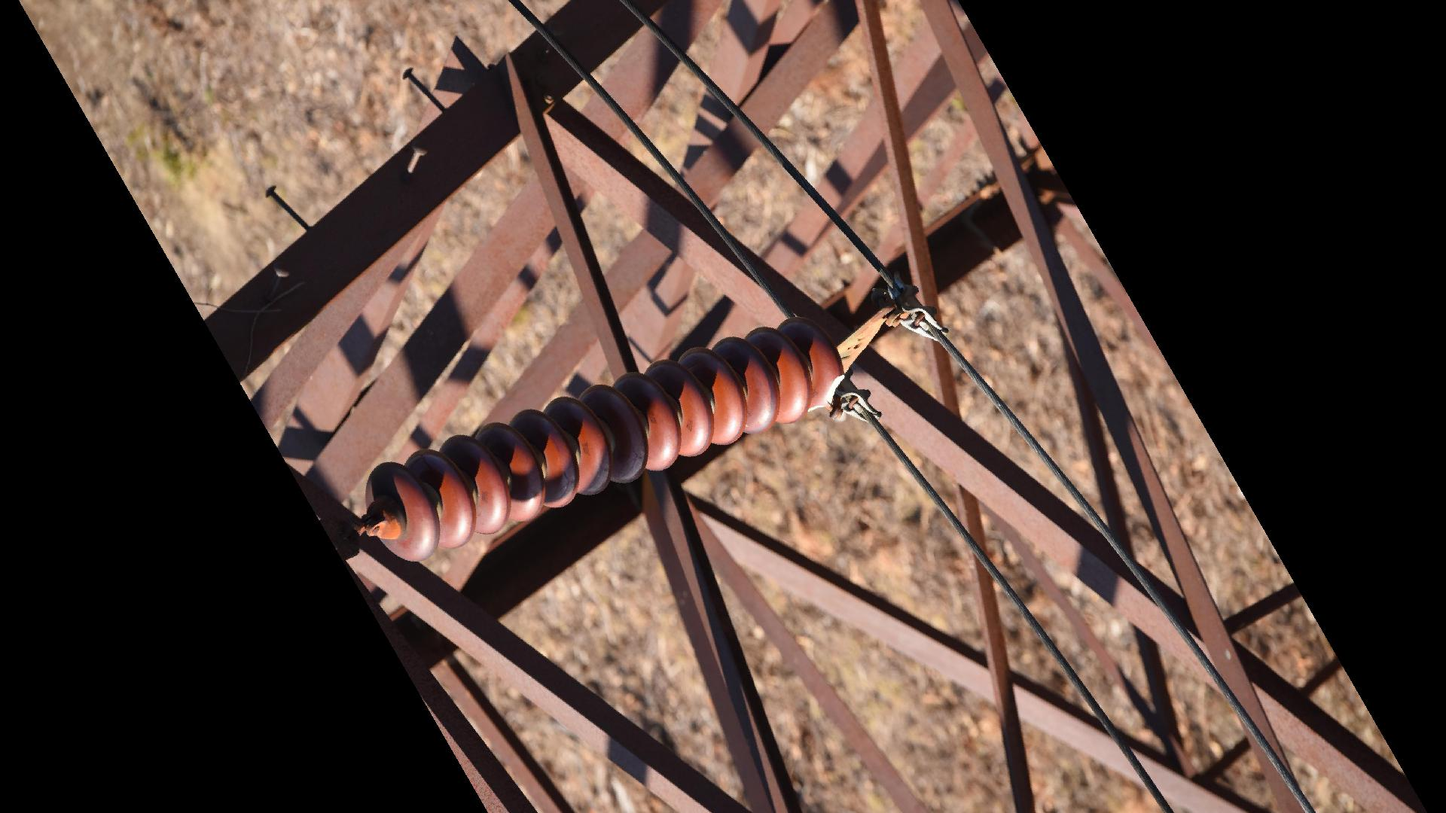insulator: (362, 314, 852, 566)
insulator_breakage: (804, 367, 847, 416)
